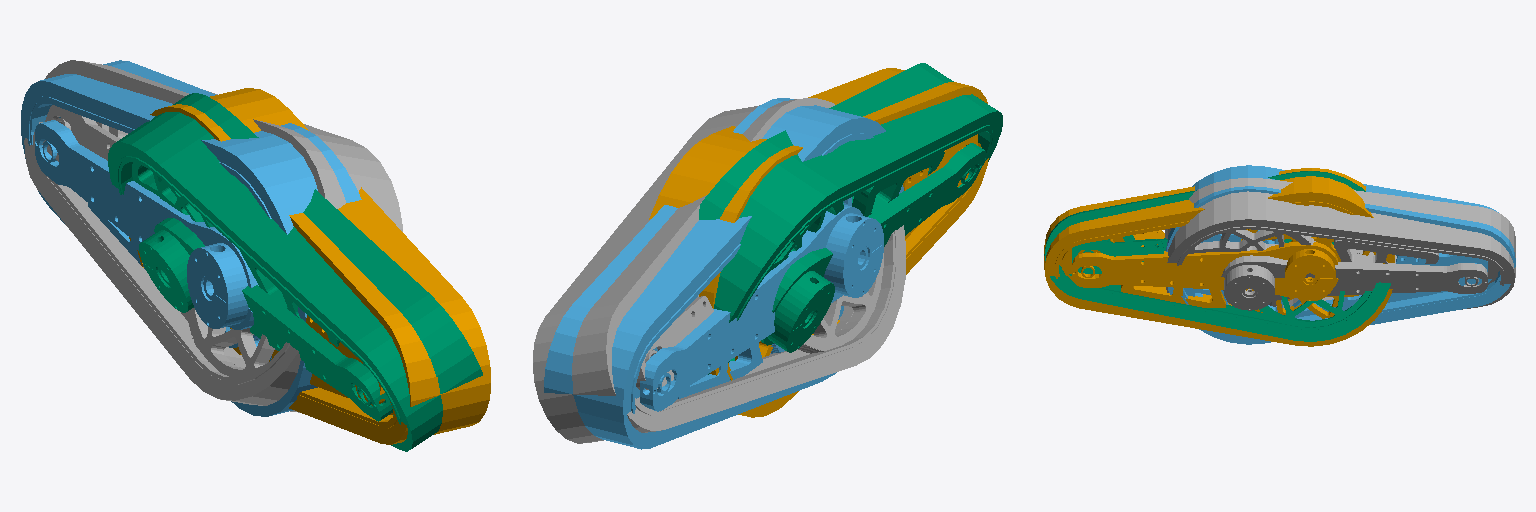
The robot description file, URDF, robot "NIFTi":
<?xml version="1.0" ?>
<!-- =================================================================================== -->
<!-- |    This document was autogenerated by xacro from [local-path]/dev/catkin_ws/src/jaguar_ws/nifti_robot_description/urdf/nifti_robot.xacro | -->
<!-- |    EDITING THIS FILE BY HAND IS NOT RECOMMENDED                                 | -->
<!-- =================================================================================== -->
<robot name="NIFTi">
	<!-- MEASURED CONSTANTS -->
	<!-- SPECIAL LINKS -->
	<!-- This is a virtual link that specifies the origin to which parts attachable to the top of the robot should be related. -->
	<link name="rear_right_box"/>
	<joint name="rear_right_box_j" type="fixed">
		<parent link="base_link"/>
		<child link="rear_right_box"/>
		<origin rpy="0 0 0" xyz="-0.379 -0.1265 0.185"/>
	</joint>
	<!-- INCLUDES -->
	<!-- The included models should have collision elements specified for all physical links to be filtered out by laser filtering. -->
	<!-- MACRO SPECIFICATIONS -->
	<!-- NIFTI ROBOT LINKS AND JOINTS SPECIFICATION -->
	<link name="base_link">
		<visual>
			<origin rpy="0 0 0" xyz="0 0 0"/>
			<geometry>
				<mesh filename="package://nifti_robot_description/meshes/body.dae" scale="1.0 1.0 1.0"/>
			</geometry>
		</visual>
		<collision>
			<origin rpy="0 0 0" xyz="-0.1220 0 0.118"/>
			<geometry>
				<box size="0.50017 0.24093 0.1390"/>
			</geometry>
		</collision>
		<collision>
			<origin rpy="0 0 0" xyz="0.157 0 0.118"/>
			<geometry>
				<box size="0.056 0.12093 0.1390"/>
			</geometry>
		</collision>
		<collision>
			<origin rpy="0 0 0.785398" xyz="0.144 -0.076 0.118"/>
			<geometry>
				<box size="0.083 0.040 0.1390"/>
			</geometry>
		</collision>
		<collision>
			<origin rpy="0 0 -0.785398" xyz="0.144 0.076 0.118"/>
			<geometry>
				<box size="0.083 0.040 0.1390"/>
			</geometry>
		</collision>
		<collision>
			<origin rpy="0 0 0" xyz="0 0.135 0.09"/>
			<geometry>
				<box size="0.055 0.040 0.08"/>
			</geometry>
		</collision>
		<collision>
			<origin rpy="0 0 0" xyz="0 0.155 0.013"/>
			<geometry>
				<box size="0.055 0.020 0.075"/>
			</geometry>
		</collision>
		<collision>
			<origin rpy="0 0 0" xyz="0 -0.135 0.09"/>
			<geometry>
				<box size="0.055 0.040 0.08"/>
			</geometry>
		</collision>
		<collision>
			<origin rpy="0 0 0" xyz="0 -0.155 0.013"/>
			<geometry>
				<box size="0.055 0.020 0.075"/>
			</geometry>
		</collision>
		<collision>
			<origin rpy="0 0 0" xyz="-0.13 0 0.418"/>
			<geometry>
				<box size="0.65 0.35 0.6"/>
			</geometry>
		</collision>
		<inertial>
			<origin rpy="0 0 0" xyz="-0.034 0 0.142"/>
			<mass value="6.746"/>
			<inertia ixx="0.0069904" ixy="0.00012271" ixz="-4.2725e-05" iyy="0.02129" iyz="-0.00010522" izz="0.025519"/>
		</inertial>
	</link>
	<link name="battery">
		<visual>
			<origin rpy="0 0 0" xyz="0 0 0"/>
			<geometry>
				<mesh filename="package://nifti_robot_description/meshes/battery.dae" scale="1.0 1.0 1.0"/>
			</geometry>
		</visual>
		<collision>
			<origin rpy="0 0 0" xyz="0 0 0.0410"/>
			<geometry>
				<box size="0.1450 0.1350 0.0820"/>
			</geometry>
		</collision>
		<inertial>
			<origin rpy="0 0 0" xyz="0 0 0.041"/>
			<mass value="3.18"/>
			<inertia ixx="0.0020793" ixy="0.0" ixz="0.0" iyy="0.0023127" iyz="0.0" izz="0.0032712"/>
		</inertial>
	</link>
	<joint name="battery_j" type="fixed">
		<parent link="base_link"/>
		<child link="battery"/>
		<origin rpy="0 0 0" xyz="-0.2836 -0.0221 0.0722"/>
	</joint>
	<link name="top_box">
		<visual>
			<origin rpy="0 0 0" xyz="0 0 0"/>
			<geometry>
				<mesh filename="package://nifti_robot_description/meshes/top_box.dae" scale="1.0 1.0 1.0"/>
			</geometry>
		</visual>
		<collision>
			<origin rpy="0 0 0" xyz="-0.0290 0 0.0315"/>
			<geometry>
				<box size="0.2000 0.1330 0.06252"/>
			</geometry>
		</collision>
		<collision>
			<origin rpy="0 0 0" xyz="-0.09824 0.04127 0.0690"/>
			<geometry>
				<box size="0.0440 0.0440 0.01303"/>
			</geometry>
		</collision>
		<collision>
			<origin rpy="0 0 0" xyz="-0.07383 -0.04222 0.07996"/>
			<geometry>
				<box size="0.03732 0.03523 0.03489"/>
			</geometry>
		</collision>
		<inertial>
			<origin rpy="0 0 0" xyz="0 0 0.041"/>
			<mass value="0.24"/>
			<inertia ixx="0.0026136" ixy="0.0" ixz="0.0" iyy="0.0049426" iyz="0.0" izz="0.0070334"/>
		</inertial>
	</link>
	<joint name="top_box_j" type="fixed">
		<parent link="rear_right_box"/>
		<child link="top_box"/>
		<!-- Origin of top box is 0.071 m from the front side. And top_box_j_x is distance from robot's back to top box' front. -->
		<origin rpy="0 0 0" xyz="0.372 0.0708 0.0"/>
	</joint>
	<link name="antenna">
		<visual>
			<origin rpy="0 0 0" xyz="0 0 0"/>
			<geometry>
				<mesh filename="package://nifti_robot_description/meshes/antenna.dae" scale="1.0 1.0 1.0"/>
			</geometry>
		</visual>
		<collision>
			<origin rpy="0 1.5707963267 0" xyz="-0.01864 0 0"/>
			<geometry>
				<cylinder length="0.03718" radius="0.008"/>
			</geometry>
		</collision>
		<collision>
			<origin rpy="0 0 0" xyz="-0.030 0 0.19053"/>
			<geometry>
				<cylinder length="0.38107" radius="0.008"/>
			</geometry>
		</collision>
		<inertial>
			<origin rpy="0 0 0" xyz="-0.022 0.0203 0.02917"/>
			<mass value="0.56"/>
			<inertia ixx="0.004878" ixy="-6.2341e-07" ixz="-7.4538e-07" iyy="0.00090164" iyz="-0.00014394" izz="0.0042946"/>
		</inertial>
	</link>
	<joint name="antenna_j" type="fixed">
		<parent link="base_link"/>
		<child link="antenna"/>
		<origin rpy="0 0 0" xyz="-0.3720 0.0789 0.1551"/>
	</joint>
	<link name="left_track">
		<visual>
			<origin rpy="1.5707963267 0 1.5707963267" xyz="0 0 -0.0705"/>
			<geometry>
				<mesh filename="package://nifti_robot_description/meshes/bogie.dae" scale="1.0 1.0 1.0"/>
			</geometry>
		</visual>
		<collision>
			<origin rpy="1.5707963267 0 1.5707963267" xyz="0 0 0.01855"/>
			<geometry>
				<box size="0.09728 0.18094 0.50000"/>
			</geometry>
		</collision>
		<collision>
			<origin rpy="1.5707963267 0 0" xyz="0.25 -0.015 0.01855"/>
			<geometry>
				<!-- enlarged because of laser filtering problems -->
				<cylinder length="0.11228" radius="0.09047"/>
			</geometry>
		</collision>
		<collision>
			<origin rpy="1.5707963267 0 0" xyz="-0.25 0 0.01855"/>
			<geometry>
				<cylinder length="0.09728" radius="0.09047"/>
			</geometry>
		</collision>
		<inertial>
			<origin rpy="0 0 0" xyz="0 0 0.0141"/>
			<mass value="6.06"/>
			<inertia ixx="0.002731" ixy="0.0" ixz="0.0" iyy="0.032554" iyz="1.5e-05" izz="0.031391"/>
		</inertial>
	</link>
	<joint name="left_track_j" type="revolute">
		<parent link="base_link"/>
		<child link="left_track"/>
		<axis xyz="0 1 0"/>
		<origin rpy="0 0.0 0" xyz="0 0.1985 0"/>
		<limit effort="0" lower="0" upper="0" velocity="4"/>
		<!--<limit lower="-0.7" upper="0.7" effort="0" velocity="4" />-->
	</joint>
	<link name="right_track">
		<visual>
			<origin rpy="1.5707963267 0 -1.5707963267" xyz="0 0 -0.0705"/>
			<geometry>
				<mesh filename="package://nifti_robot_description/meshes/bogie.dae" scale="1.0 1.0 1.0"/>
			</geometry>
		</visual>
		<collision>
			<origin rpy="1.5707963267 0 1.5707963267" xyz="0 0 0.01855"/>
			<geometry>
				<box size="0.09728 0.18094 0.50000"/>
			</geometry>
		</collision>
		<collision>
			<origin rpy="1.5707963267 0 0" xyz="0.25 0.015 0.01855"/>
			<geometry>
				<!-- enlarged because of laser filtering problems -->
				<cylinder length="0.11228" radius="0.09047"/>
			</geometry>
		</collision>
		<collision>
			<origin rpy="1.5707963267 0 0" xyz="-0.25 0 0.01855"/>
			<geometry>
				<cylinder length="0.09728" radius="0.09047"/>
			</geometry>
		</collision>
		<inertial>
			<origin rpy="0 0 0" xyz="0 0 0.0141"/>
			<mass value="6.06"/>
			<inertia ixx="0.002731" ixy="0.0" ixz="0.0" iyy="0.032554" iyz="1.5e-05" izz="0.031391"/>
		</inertial>
	</link>
	<joint name="right_track_j" type="revolute">
		<parent link="base_link"/>
		<child link="right_track"/>
		<axis xyz="0 1 0"/>
		<origin rpy="0 0.0 0" xyz="0 -0.1985 0"/>
		<limit effort="0" lower="0" upper="0" velocity="4"/>
		<!--<limit lower="-0.7" upper="0.7" effort="0" velocity="4" />-->
	</joint>
	<link name="front_left_flipper">
		<visual>
			<origin rpy="3.32575 0 1.5707963267" xyz="0 0 0"/>
			<geometry>
				<mesh filename="package://nifti_robot_description/meshes/flipper.dae" scale="1.0 1.0 1.0"/>
			</geometry>
		</visual>
		<collision>
			<origin rpy="1.5707963267 0 0" xyz="0 -0.0185 0"/>
			<geometry>
				<cylinder length="0.08681" radius="0.09047"/>
			</geometry>
		</collision>
		<collision>
			<origin rpy="1.5707963267 0 0" xyz="0.33 -0.0185 0.0"/>
			<geometry>
				<cylinder length="0.08681" radius="0.058"/>
			</geometry>
		</collision>
		<collision>
			<origin rpy="0 0.184162095 0.0" xyz="0.165 -0.0185 0.0325"/>
			<geometry>
				<box size="0.33 0.08681 0.11"/>
			</geometry>
		</collision>
		<collision>
			<origin rpy="0 -0.184162095 0.0" xyz="0.165 -0.0185 -0.0325"/>
			<geometry>
				<box size="0.33 0.08681 0.11"/>
			</geometry>
		</collision>
		<collision>
			<origin rpy="0 -0.02 0.0" xyz="0.136 -0.0185 0.004"/>
			<geometry>
				<box size="0.20 0.08681 0.07"/>
			</geometry>
		</collision>
		<inertial>
			<origin rpy="0 0 0" xyz="0.08 0 0.0"/>
			<mass value="0.75"/>
			<inertia ixx="0.0017491" ixy="2.8512e-07" ixz="0.0018277" iyy="0.012277" iyz="-3.6288e-07" izz="0.010941"/>
		</inertial>
	</link>
	<joint name="front_left_flipper_j" type="continuous">
		<parent link="left_track"/>
		<child link="front_left_flipper"/>
		<axis xyz="0 1 0"/>
		<origin rpy="0 0.1937 0" xyz="0.25 0.0735 0.0195"/>
	</joint>
	<link name="front_right_flipper">
		<visual>
			<origin rpy="3.32575 0 -1.5707963267" xyz="0 0 0"/>
			<geometry>
				<mesh filename="package://nifti_robot_description/meshes/flipper.dae" scale="1.0 1.0 1.0"/>
			</geometry>
		</visual>
		<collision>
			<origin rpy="1.5707963267 0 0" xyz="0 0.0185 0"/>
			<geometry>
				<cylinder length="0.08681" radius="0.09047"/>
			</geometry>
		</collision>
		<collision>
			<origin rpy="1.5707963267 0 0" xyz="-0.33 0.0185 0.0"/>
			<geometry>
				<cylinder length="0.08681" radius="0.058"/>
			</geometry>
		</collision>
		<collision>
			<origin rpy="0 0.184162095 3.1415926534" xyz="-0.165 0.0185 0.0325"/>
			<geometry>
				<box size="0.33 0.08681 0.11"/>
			</geometry>
		</collision>
		<collision>
			<origin rpy="0 -0.184162095 3.1415926534" xyz="-0.165 0.0185 -0.0325"/>
			<geometry>
				<box size="0.33 0.08681 0.11"/>
			</geometry>
		</collision>
		<collision>
			<origin rpy="0 -0.02 3.1415926534" xyz="-0.136 0.0185 0.004"/>
			<geometry>
				<box size="0.20 0.08681 0.07"/>
			</geometry>
		</collision>
		<inertial>
			<origin rpy="0 0 0" xyz="-0.08 0 0.0"/>
			<mass value="0.75"/>
			<inertia ixx="0.0017491" ixy="2.8512e-07" ixz="0.0018277" iyy="0.012277" iyz="-3.6288e-07" izz="0.010941"/>
		</inertial>
	</link>
	<joint name="front_right_flipper_j" type="continuous">
		<parent link="right_track"/>
		<child link="front_right_flipper"/>
		<axis xyz="0 1 0"/>
		<origin rpy="0 -2.9479 0" xyz="0.25 -0.0735 0.0195"/>
	</joint>
	<link name="rear_left_flipper">
		<visual>
			<origin rpy="3.32575 0 1.5707963267" xyz="0 0 0"/>
			<geometry>
				<mesh filename="package://nifti_robot_description/meshes/flipper.dae" scale="1.0 1.0 1.0"/>
			</geometry>
		</visual>
		<collision>
			<origin rpy="1.5707963267 0 0" xyz="0 -0.0 0"/>
			<geometry>
				<cylinder length="0.04981" radius="0.09047"/>
			</geometry>
		</collision>
		<collision>
			<origin rpy="1.5707963267 0 0" xyz="0.33 -0.0 0.0"/>
			<geometry>
				<cylinder length="0.04981" radius="0.029"/>
			</geometry>
		</collision>
		<collision>
			<origin rpy="0 0.184162095 0.0" xyz="0.165 -0.0 0.0325"/>
			<geometry>
				<box size="0.33 0.04981 0.055"/>
			</geometry>
		</collision>
		<collision>
			<origin rpy="0 -0.184162095 0.0" xyz="0.165 -0.0 -0.0325"/>
			<geometry>
				<box size="0.33 0.04981 0.055"/>
			</geometry>
		</collision>
		<collision>
			<origin rpy="0 -0.02 0.0" xyz="0.136 -0.0 0.004"/>
			<geometry>
				<box size="0.20 0.04981 0.07"/>
			</geometry>
		</collision>
		<inertial>
			<origin rpy="0 0 0" xyz="0.08 0 0.0"/>
			<mass value="0.75"/>
			<inertia ixx="0.0017491" ixy="2.8512e-07" ixz="0.0018277" iyy="0.012277" iyz="-3.6288e-07" izz="0.010941"/>
		</inertial>
	</link>
	<joint name="rear_left_flipper_j" type="continuous">
		<parent link="left_track"/>
		<child link="rear_left_flipper"/>
		<axis xyz="0 1 0"/>
		<origin rpy="0 2.9479 0" xyz="-0.25 0.0735 0.0195"/>
	</joint>
	<link name="rear_right_flipper">
		<visual>
			<origin rpy="3.32575 0 -1.5707963267" xyz="0 0 0"/>
			<geometry>
				<mesh filename="package://nifti_robot_description/meshes/flipper.dae" scale="1.0 1.0 1.0"/>
			</geometry>
		</visual>
		<collision>
			<origin rpy="1.5707963267 0 0" xyz="0 0.0 0"/>
			<geometry>
				<cylinder length="0.04981" radius="0.09047"/>
			</geometry>
		</collision>
		<collision>
			<origin rpy="1.5707963267 0 0" xyz="-0.33 0.0 0.0"/>
			<geometry>
				<cylinder length="0.04981" radius="0.029"/>
			</geometry>
		</collision>
		<collision>
			<origin rpy="0 0.184162095 3.1415926534" xyz="-0.165 0.0 0.0325"/>
			<geometry>
				<box size="0.33 0.04981 0.055"/>
			</geometry>
		</collision>
		<collision>
			<origin rpy="0 -0.184162095 3.1415926534" xyz="-0.165 0.0 -0.0325"/>
			<geometry>
				<box size="0.33 0.04981 0.055"/>
			</geometry>
		</collision>
		<collision>
			<origin rpy="0 -0.02 3.1415926534" xyz="-0.136 0.0 0.004"/>
			<geometry>
				<box size="0.20 0.04981 0.07"/>
			</geometry>
		</collision>
		<inertial>
			<origin rpy="0 0 0" xyz="-0.08 0 0.0"/>
			<mass value="0.75"/>
			<inertia ixx="0.0017491" ixy="2.8512e-07" ixz="0.0018277" iyy="0.012277" iyz="-3.6288e-07" izz="0.010941"/>
		</inertial>
	</link>
	<joint name="rear_right_flipper_j" type="continuous">
		<parent link="right_track"/>
		<child link="rear_right_flipper"/>
		<axis xyz="0 1 0"/>
		<origin rpy="0 -0.1937 0" xyz="-0.25 -0.0735 0.0195"/>
	</joint>
	<link name="front_left_flipper_end_point"/>
	<joint name="front_left_flipper_end_point_j" type="fixed">
		<parent link="front_left_flipper"/>
		<child link="front_left_flipper_end_point"/>
		<origin rpy="0 0.1937 0" xyz="0.3476 0 0"/>
	</joint>
	<link name="front_right_flipper_end_point"/>
	<joint name="front_right_flipper_end_point_j" type="fixed">
		<parent link="front_right_flipper"/>
		<child link="front_right_flipper_end_point"/>
		<origin rpy="0 0.1937 0" xyz="0.3476 0 0"/>
	</joint>
	<link name="laser">
		<visual>
			<origin rpy="1.5707963267 0 -1.5707963267" xyz="0 0 0"/>
			<geometry>
				<mesh filename="package://nifti_robot_description/meshes/laser.dae" scale="1.0 1.0 1.0"/>
			</geometry>
		</visual>
		<collision>
			<origin rpy="1.5707963267 0 -1.5707963267" xyz="0 0 -0.04"/>
			<geometry>
				<box size="0.1159 0.16826 0.1159"/>
			</geometry>
		</collision>
		<inertial>
			<origin rpy="0 0 0" xyz="0 0 -0.07"/>
			<mass value="1.1"/>
			<inertia ixx="0.0031194" ixy="-2.221e-06" ixz="-1.1577e-06" iyy="0.0031389" iyz="-1.153e-05" izz="0.0017656"/>
		</inertial>
	</link>
	<joint name="laser_j" type="revolute">
		<parent link="base_link"/>
		<child link="laser"/>
		<axis xyz="1 0 0"/>
		<dynamics damping="10000000"/>
		<origin rpy="3.1415927 0 0" xyz="0.2502 0.0 0.1407"/>
		<limit effort="0" lower="-2.3561945" upper="2.3561945" velocity="4"/>
	</joint>
	<link name="imu">
		<visual>
			<origin rpy="0 0 0" xyz="0 0 0"/>
			<geometry>
				<box size="0.05 0.05 0.05"/>
			</geometry>
			<material name="invisible_color">
				<color rgba="1 0 0 0.5"/>
			</material>
		</visual>
		<inertial>
			<origin rpy="0 0 0" xyz="0 0 0"/>
			<mass value="1e-5"/>
			<inertia ixx="1e-3" ixy="1e-6" ixz="1e-6" iyy="1e-3" iyz="1e-6" izz="1e-3"/>
		</inertial>
	</link>
	<joint name="imu_j" type="fixed">
		<parent link="base_link"/>
		<child link="imu"/>
		<origin rpy="3.141592 0 0" xyz="0 0 0.1500"/>
	</joint>
	<link name="omnicam">
		<visual>
			<origin rpy="0 0 0" xyz="0 0 0"/>
			<geometry>
				<mesh filename="package://nifti_robot_description/meshes/omnicam.dae" scale="1.0 1.0 1.0"/>
			</geometry>
		</visual>
		<collision>
			<origin rpy="0 0 0" xyz="-0.003 -0.0015 0.003"/>
			<geometry>
				<cylinder length="0.137" radius="0.068"/>
			</geometry>
		</collision>
		<inertial>
			<origin rpy="0 0 0" xyz="0 0 0"/>
			<mass value="2.414"/>
			<inertia ixx="0.0023726" ixy="-3.0562e-06" ixz="-2.3418e-06" iyy="0.0023716" iyz="5.1202e-06" izz="0.0016667"/>
		</inertial>
	</link>
	<joint name="omnicam_j" type="fixed">
		<parent link="top_box"/>
		<child link="omnicam"/>
		<origin rpy="0 0 -0.628318530" xyz="0.0023 -0.0017 0.1292"/>
	</joint>
</robot>

--- What the picture shows (computed from the rendered views, not written in the file) ---
3 views of the same robot in one strip: view 1: azimuth 30°, elevation 25°; view 2: azimuth 150°, elevation 25°; view 3: azimuth 270°, elevation 25° (orthographic).
Robot: NIFTi — 16 links, 15 joints (3 revolute, 4 continuous, 8 fixed); root link base_link; default pose: all joints at 0.
Links seen in each view (by area): view 1: rear_right_flipper, rear_left_flipper, front_left_flipper, front_right_flipper; view 2: rear_left_flipper, rear_right_flipper, front_left_flipper, front_right_flipper; view 3: front_left_flipper, front_right_flipper, rear_right_flipper, rear_left_flipper.
Link boxes in pixels (bbox=[...]): rear_right_flipper: bbox=[108, 93, 482, 451]; rear_left_flipper: bbox=[21, 60, 361, 416]; front_left_flipper: bbox=[24, 60, 402, 412]; front_right_flipper: bbox=[129, 88, 490, 444]; rear_left_flipper: bbox=[544, 98, 903, 449]; rear_right_flipper: bbox=[699, 63, 1002, 374]; front_left_flipper: bbox=[533, 98, 905, 443]; front_right_flipper: bbox=[649, 68, 988, 417]; front_left_flipper: bbox=[1165, 178, 1515, 310]; front_right_flipper: bbox=[1044, 168, 1394, 346]; rear_right_flipper: bbox=[1044, 171, 1390, 341]; rear_left_flipper: bbox=[1165, 165, 1515, 344].
Bounding box of the posed robot: 6.16 × 23.88 × 9.14 m (x, y, z).
Meshes: 8 distinct files referenced, 4 mesh visuals loaded (1 Collada DAE); not drawn: 8 (reference not matched to a file when rendering).